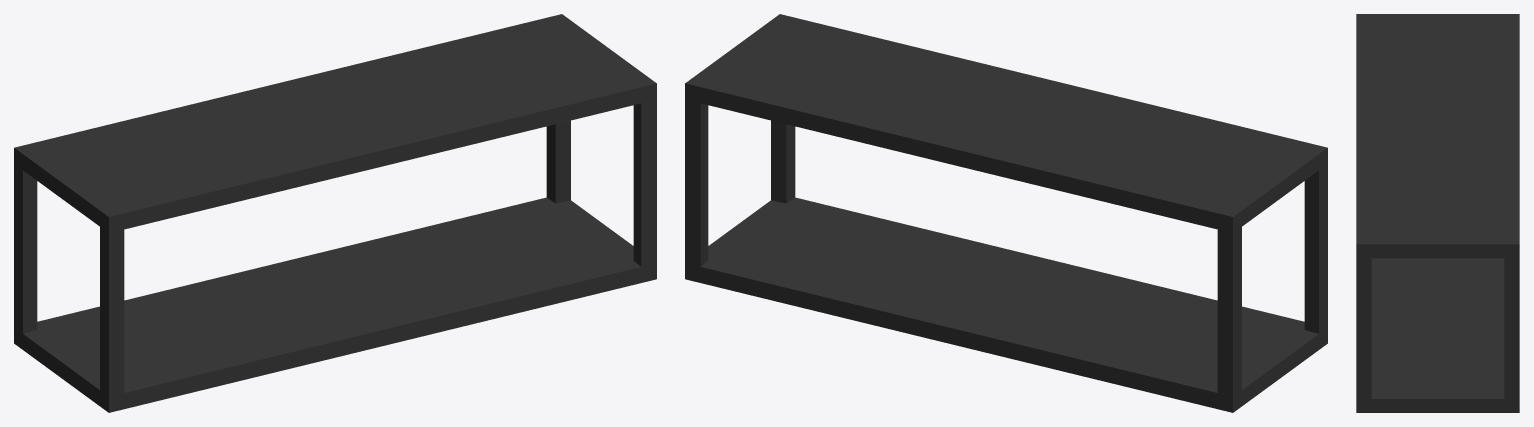
Rendered from shelf_F.FBX.
3 renders of one model, left to right at view 1: azimuth 30°, elevation 25°; view 2: azimuth 150°, elevation 25°; view 3: azimuth 270°, elevation 25°, orthographic. The views are drawn at different scales.
Visible parts, largest first — view 1: shelf_F; view 2: shelf_F; view 3: shelf_F.
Boxes of the visible parts, x1,y1,x2,y2 form: shelf_F: [14, 14, 656, 412]; shelf_F: [685, 14, 1327, 412]; shelf_F: [1356, 14, 1519, 412].
Size of the model in its own units: 81.45 by 27.83 by 24.4.
